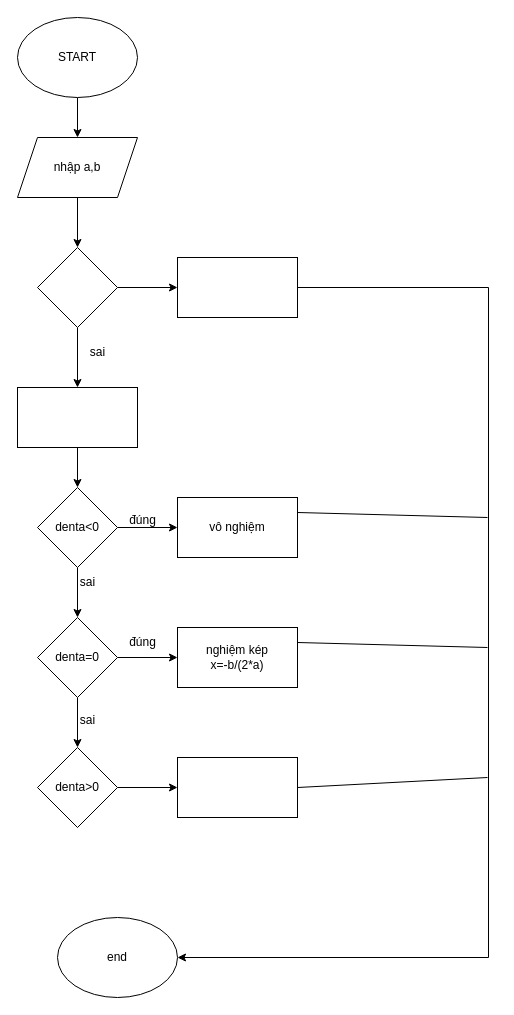
The diagram is 514 pixels wide and 1015 high, and some of its shapes have lost their labels. Each missing label, with the centre of its shape:
"a=0" goes at point 77,287.
"denta=b*b-4*a*c" goes at point 77,417.
"phương trình có 2 nghiệm phân biệt" goes at point 237,787.
"x=-c/b" goes at point 237,287.
